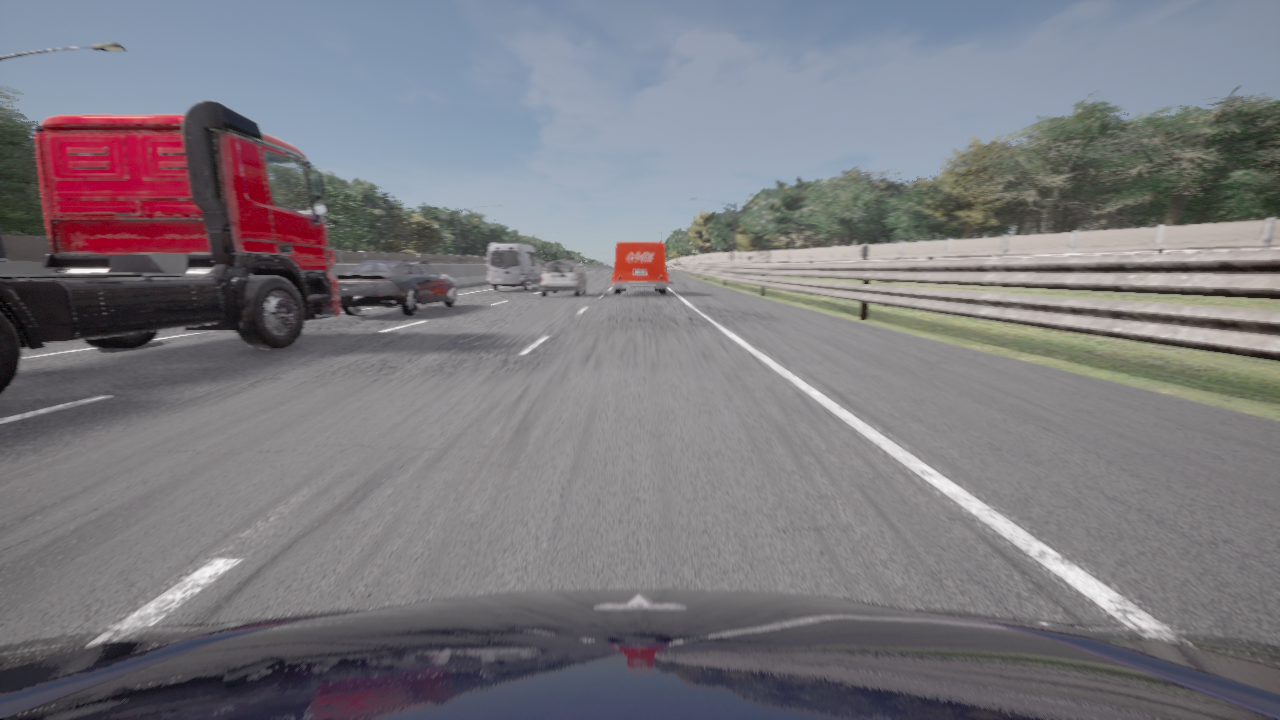cyclist: (0, 588, 1279, 719), (0, 100, 340, 395), (335, 260, 457, 315), (612, 242, 667, 294), (487, 243, 543, 290), (540, 260, 586, 296), (578, 264, 585, 275)
